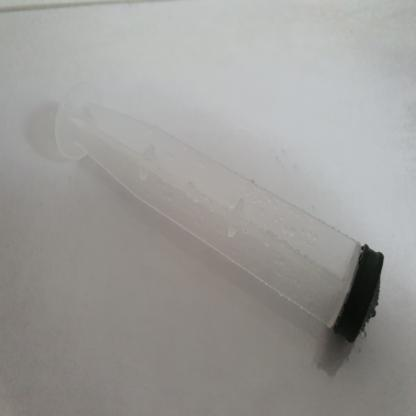wet: (46, 74, 386, 344)
